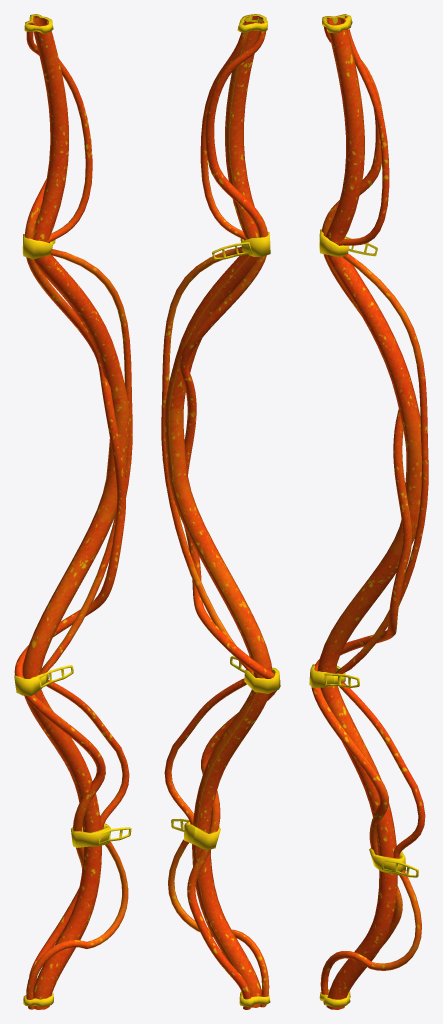
File: SM_Cable_04.glb
3 views of the same model, side by side, from view 1: azimuth 30°, elevation 25°; view 2: azimuth 150°, elevation 25°; view 3: azimuth 330°, elevation 25° (orthographic).
Visible parts, largest first — view 1: SM_Cable_04; view 2: SM_Cable_04; view 3: SM_Cable_04.
Boxes of the visible parts, x1,y1,x2,y2 form: SM_Cable_04: (14, 14, 132, 1009); SM_Cable_04: (161, 14, 280, 1009); SM_Cable_04: (309, 14, 428, 1009).
Size of the model in its own units: 0.3724 by 3 by 0.1405.
1 material, 1 textured.
